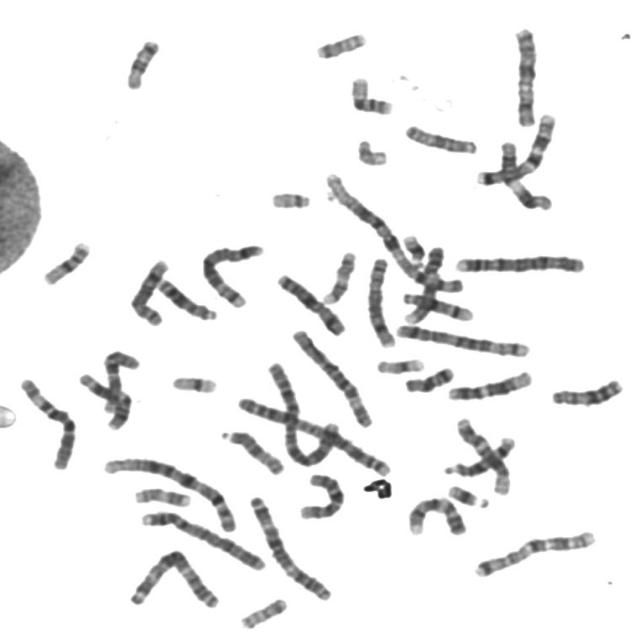A1: (320, 166, 468, 295), (97, 450, 240, 534)
A2: (251, 369, 394, 476), (234, 387, 396, 477)
A3: (244, 489, 336, 602), (123, 544, 225, 611)
B4: (135, 505, 270, 572), (449, 247, 588, 276)
B5: (391, 318, 534, 359), (196, 237, 268, 309)
C10: (96, 345, 144, 417), (295, 468, 348, 521)
C11: (496, 135, 557, 212), (74, 367, 133, 431)
C12: (451, 412, 514, 497), (443, 364, 537, 402)
C6: (286, 323, 376, 429), (14, 372, 80, 471)
C7: (469, 524, 600, 580), (472, 107, 560, 187)
C8: (125, 253, 174, 328), (362, 251, 398, 349)
C9: (399, 240, 449, 326), (402, 491, 470, 538)
D13: (152, 272, 220, 322), (547, 372, 627, 408)
D14: (440, 430, 519, 478), (398, 286, 477, 323)
D15: (217, 424, 289, 476), (400, 118, 482, 155)
E16: (38, 235, 94, 287), (346, 70, 396, 116)
E17: (318, 246, 360, 306), (129, 482, 195, 508)
E18: (120, 33, 163, 91), (401, 361, 458, 394)
F19: (167, 369, 221, 395), (372, 352, 428, 376)
F20: (236, 592, 291, 631), (311, 26, 371, 60)
G21: (443, 479, 493, 510), (398, 229, 428, 265)
G22: (352, 133, 392, 167), (266, 185, 314, 210)
X: (272, 268, 349, 338), (509, 22, 542, 128)
